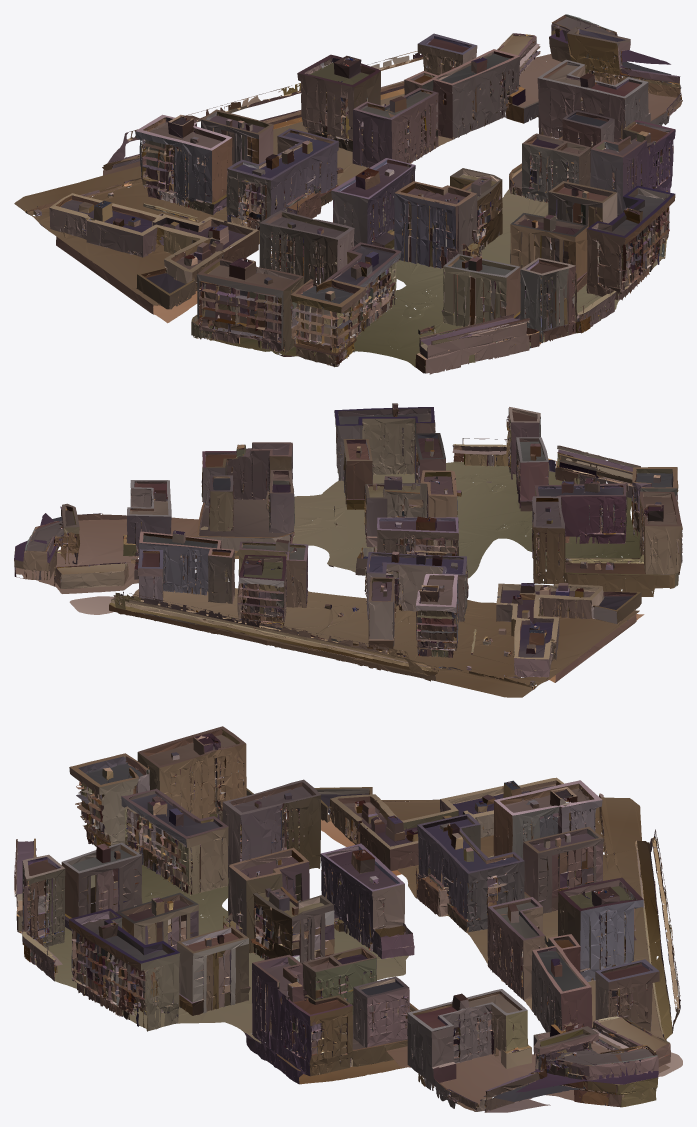
Rendered from construction-12.glb.
3 renders of one model, top to bottom at view 1: azimuth 30°, elevation 25°; view 2: azimuth 150°, elevation 25°; view 3: azimuth 270°, elevation 25°, orthographic. The views are drawn at different scales.
Visible parts, largest first — view 1: tmpvp5kfm4f.obj; view 2: tmpvp5kfm4f.obj; view 3: tmpvp5kfm4f.obj.
Boxes of the visible parts, x1,y1,x2,y2 form: tmpvp5kfm4f.obj: (14,14,682,374); tmpvp5kfm4f.obj: (14,403,682,697); tmpvp5kfm4f.obj: (14,726,682,1112).
Size of the model in its own units: 1.62 by 0.2339 by 1.4.
1 material, 1 textured.
